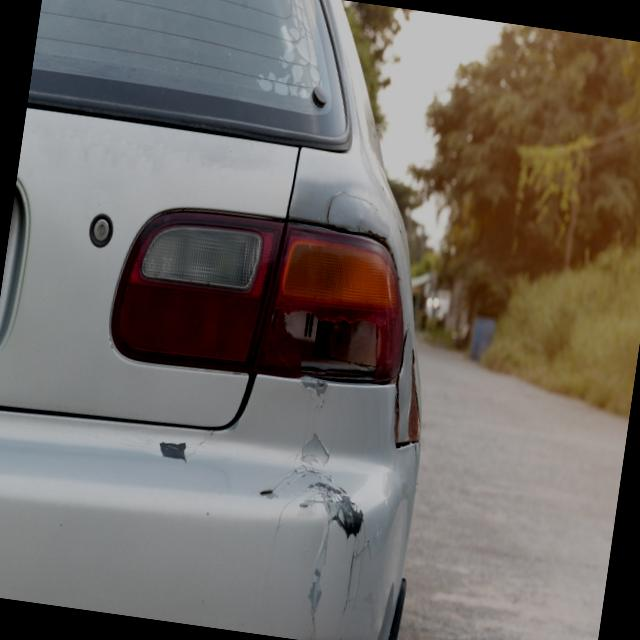Phare abime: (254, 289, 407, 394)
Rayure: (232, 429, 384, 640), (153, 435, 189, 471)
